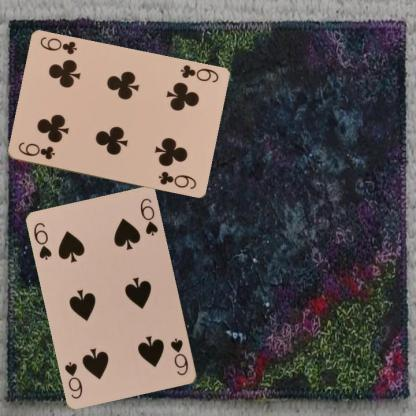6c: (178, 62, 220, 84), (15, 139, 56, 161)
6s: (168, 336, 190, 377), (31, 220, 53, 261)
